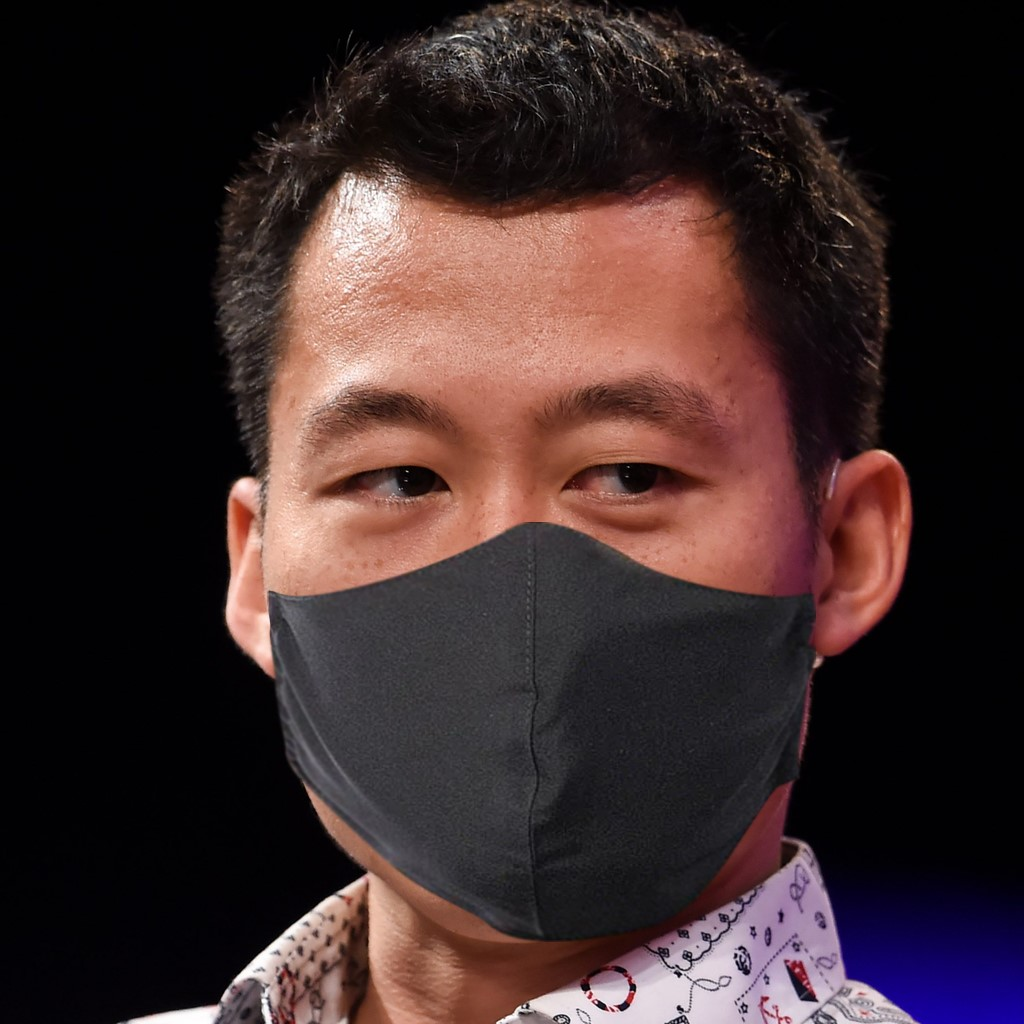con_mascara: (228, 151, 851, 949)
